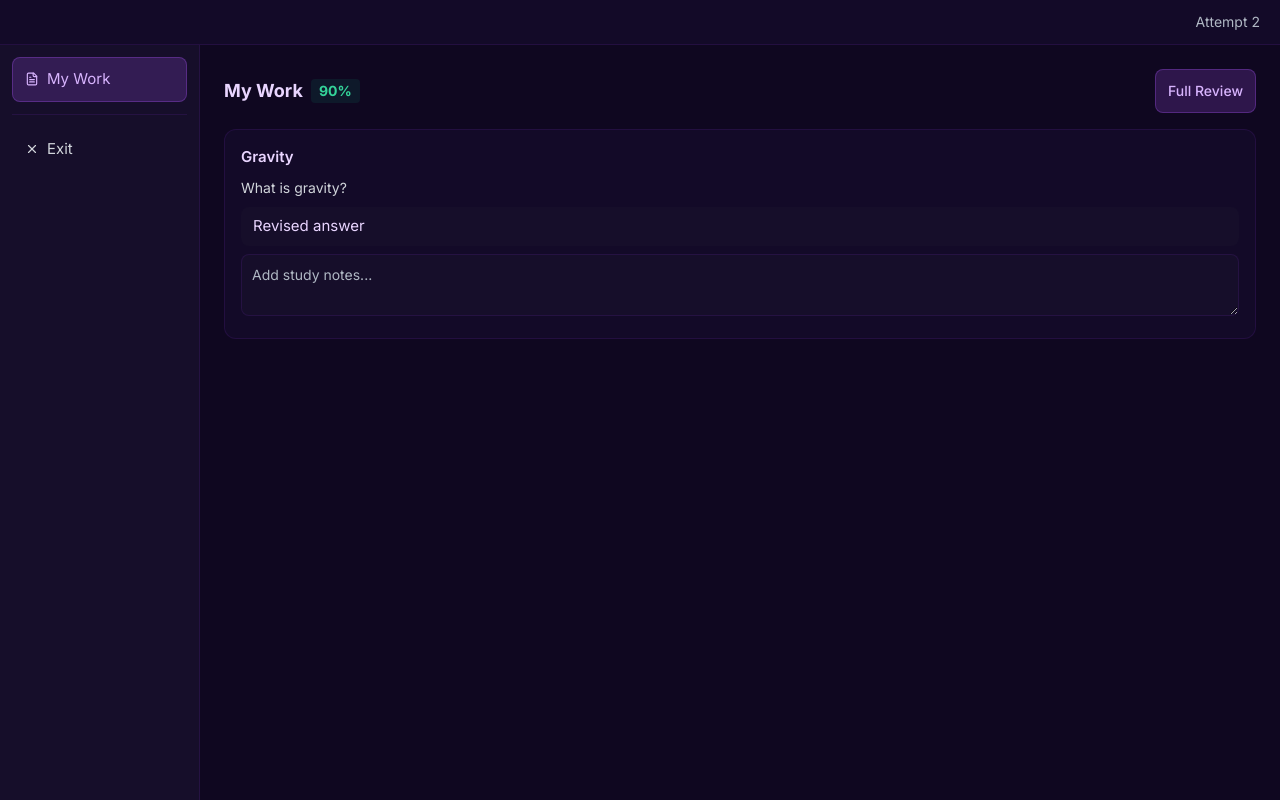
Test: MyWorkPanel attempt selector › switching the selector swaps the rendered responses
Click the button "My Work" at (100, 79), box [12,57,187,102]
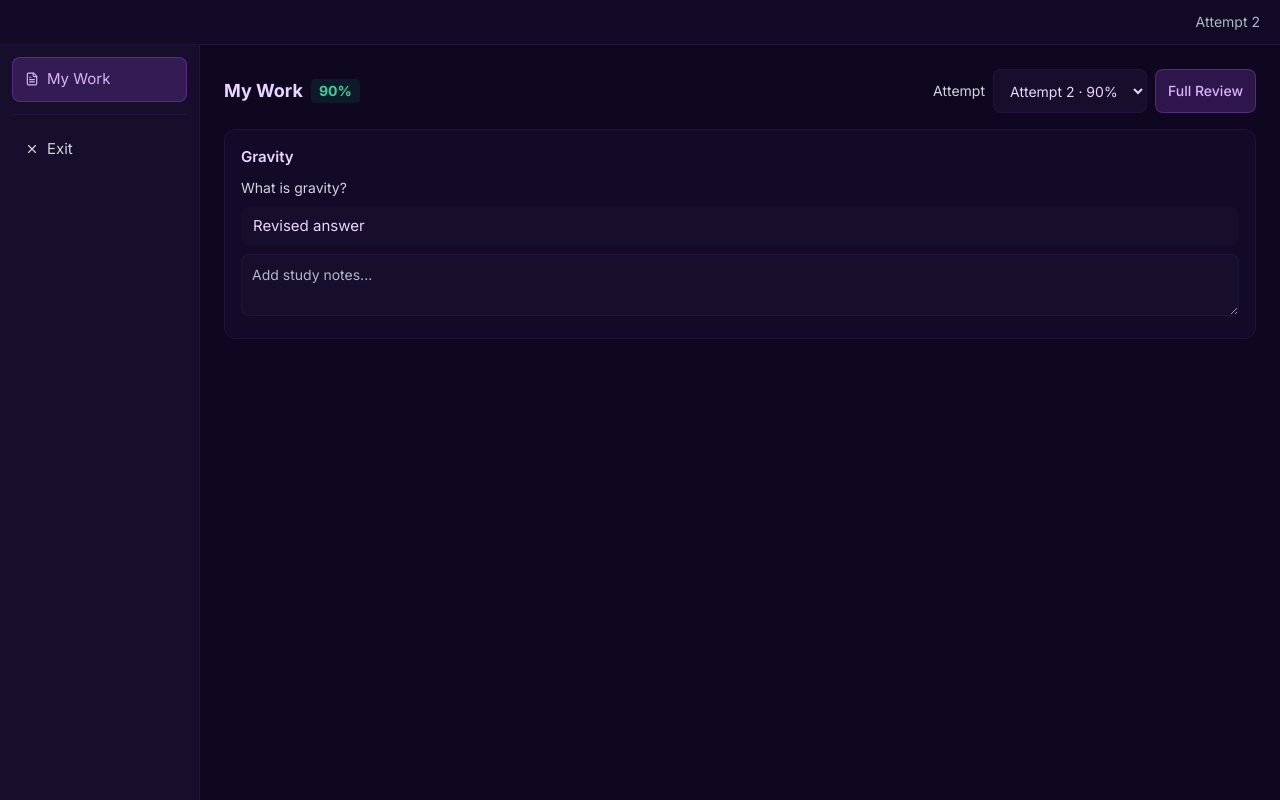
expect the text "Revised answer" is shown: met, box [253,216,365,235]
Select "Attempt 1 · 55%" in the dropdown at (1070, 91), box [993,69,1147,113]
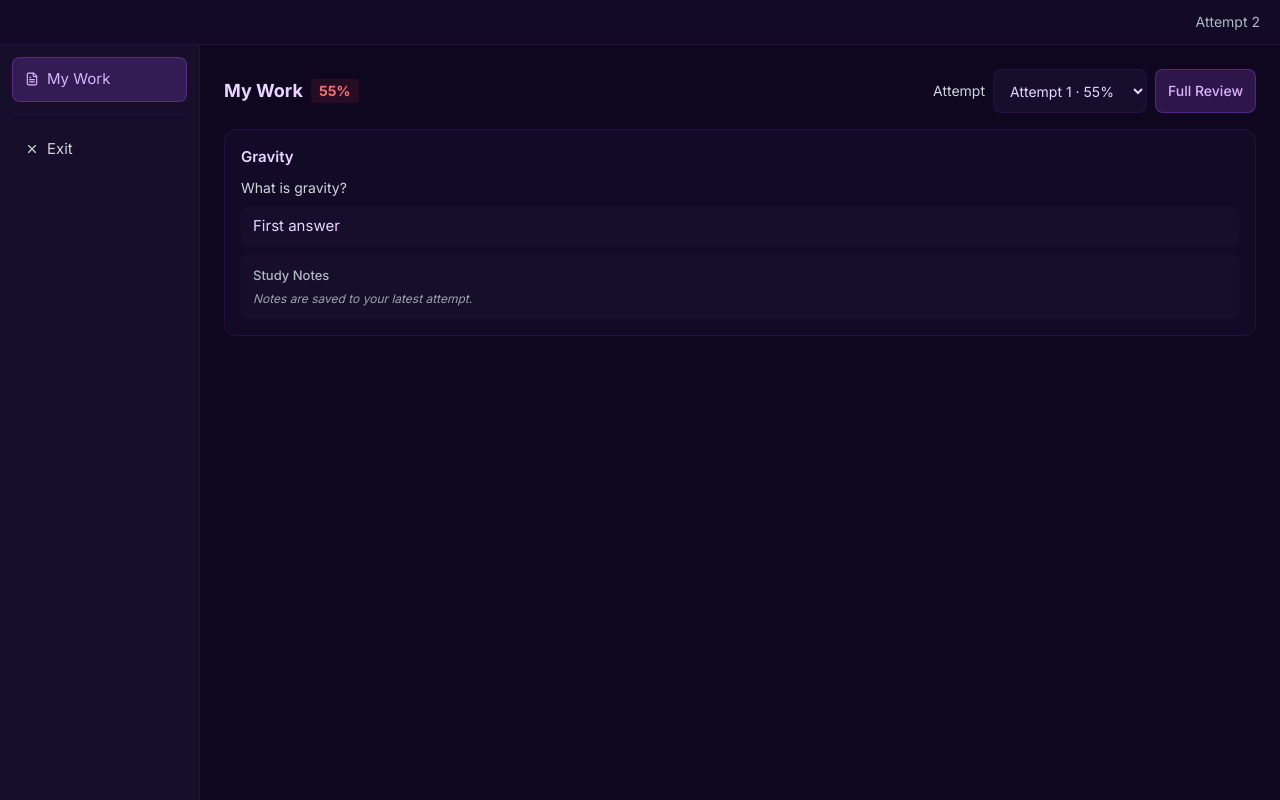
expect the text "First answer" is shown: met, box [253,216,340,235]
expect the text "Revised answer" is gone: met
expect the text with test id "mywork-score-pill" reads "55%": met, box [311,79,358,103]
